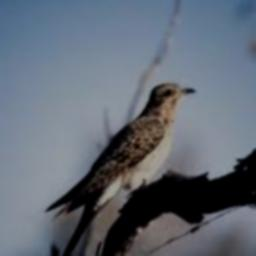Cuckoo: (45, 83, 195, 256)
